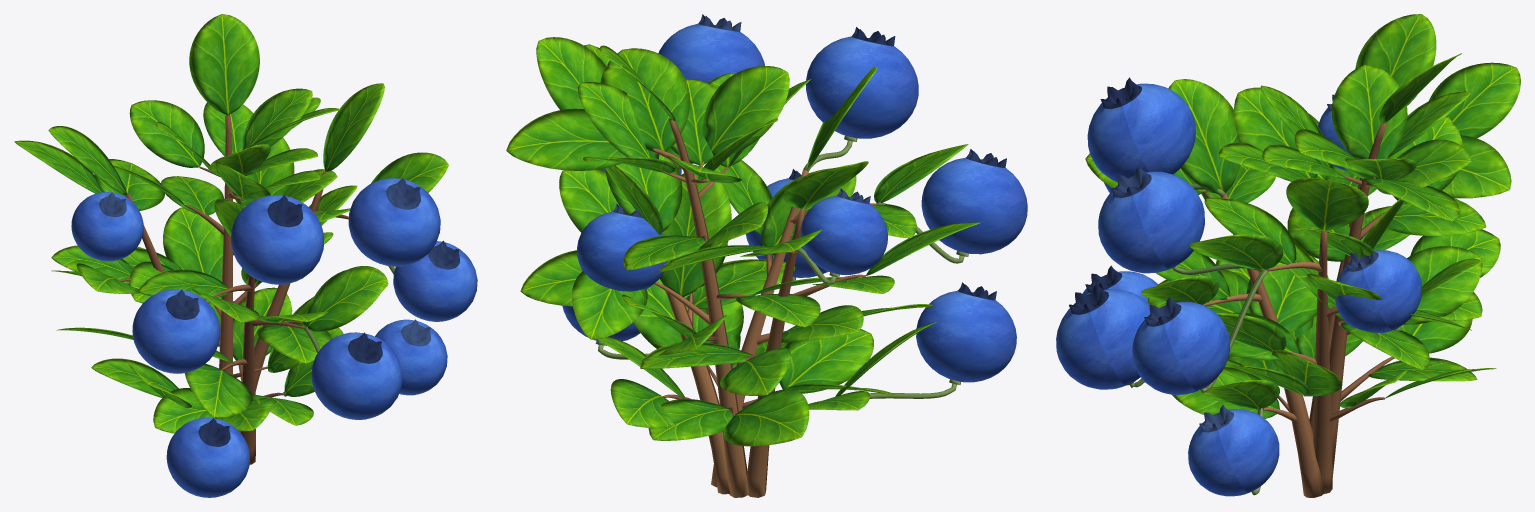
The model's file is NP_Blueberry_Ready.fbx.
3 renders of one model, left to right at view 1: azimuth 30°, elevation 25°; view 2: azimuth 150°, elevation 25°; view 3: azimuth 270°, elevation 25°, orthographic. The views are drawn at different scales.
Visible parts, largest first — view 1: NP_Blueberry_Ready; view 2: NP_Blueberry_Ready; view 3: NP_Blueberry_Ready.
Boxes of the visible parts, x1=… form: NP_Blueberry_Ready: x1=14, y1=14, x2=477, y2=497; NP_Blueberry_Ready: x1=506, y1=14, x2=1027, y2=497; NP_Blueberry_Ready: x1=1056, y1=14, x2=1520, y2=497.
Bounding box in the file's own units: 72.91 × 77.46 × 70.67.
